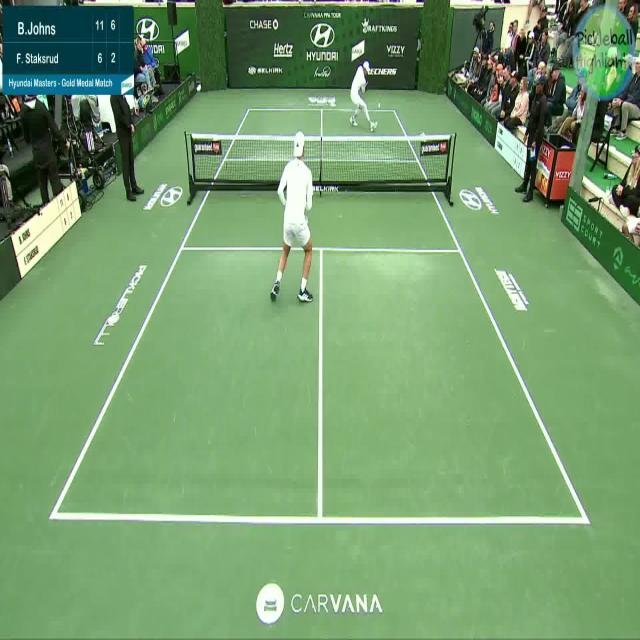ball: (377, 100, 383, 108)
